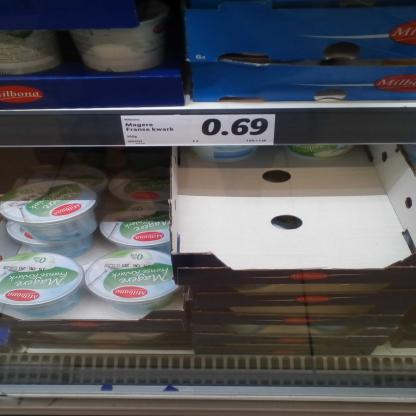prtg: (122, 115, 278, 147)
